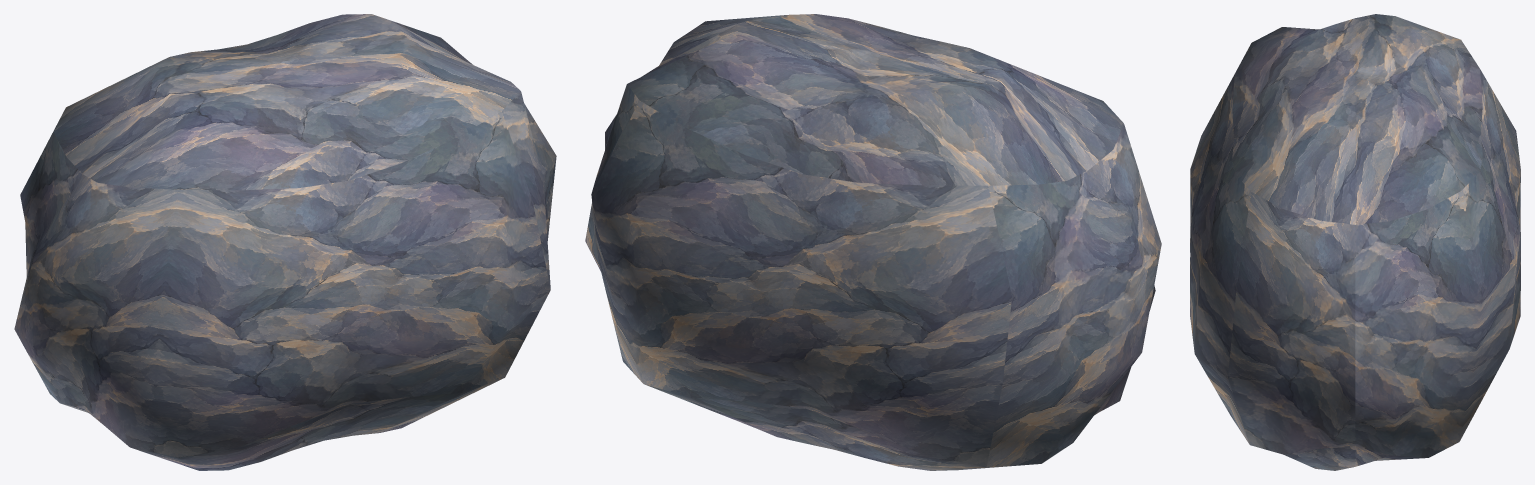
File: NaturalRock_11.fbx
3 renders of one model, left to right at view 1: azimuth 30°, elevation 25°; view 2: azimuth 150°, elevation 25°; view 3: azimuth 270°, elevation 25°, orthographic. The views are drawn at different scales.
Visible parts, largest first — view 1: NaturalRock_11.001; view 2: NaturalRock_11.001; view 3: NaturalRock_11.001.
Boxes of the visible parts, x1,y1,x2,y2 form: NaturalRock_11.001: (14, 14, 556, 470); NaturalRock_11.001: (585, 14, 1161, 470); NaturalRock_11.001: (1190, 14, 1520, 470).
Bounding box in the file's own units: 432 × 305 × 259.
1 material, 1 textured.
